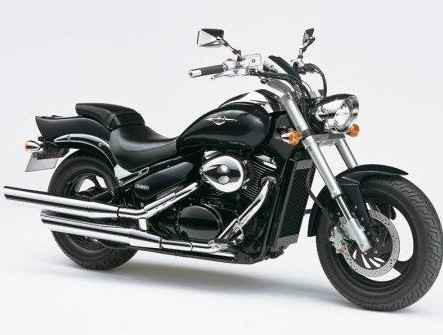motor: (35, 34, 436, 311)
